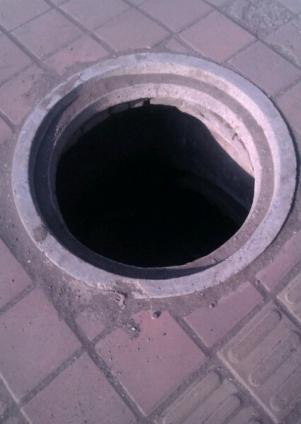lose: (8, 44, 295, 299)
